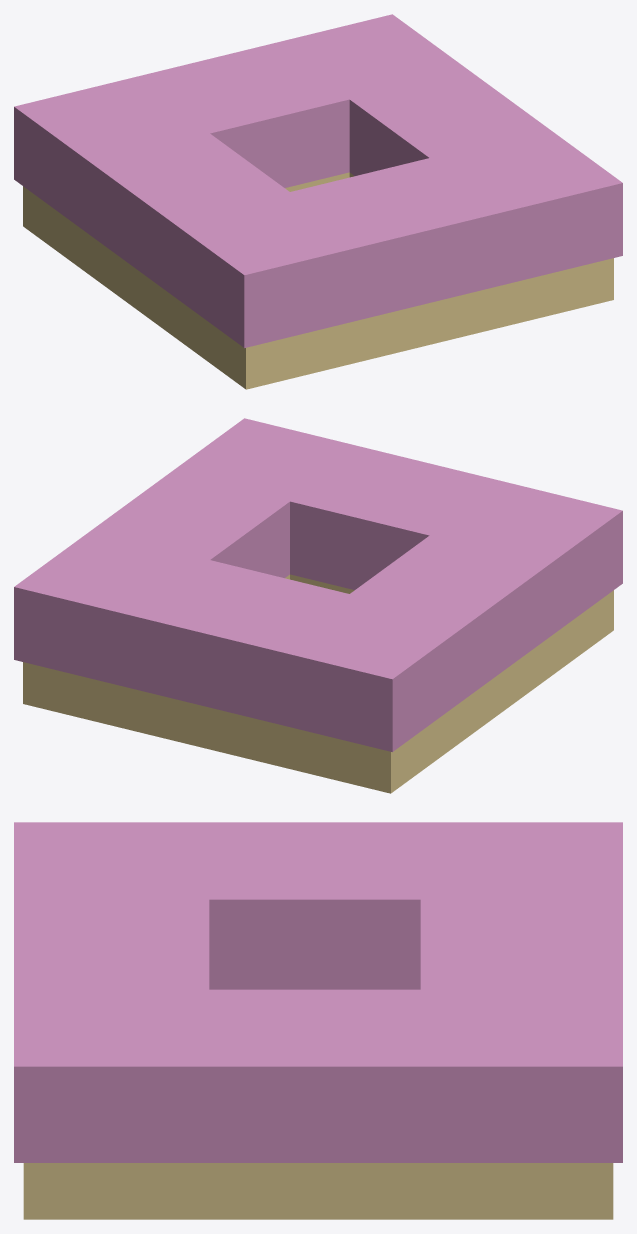
Rendered from Donut.fbx.
3 views of the same model, one above another, from view 1: azimuth 30°, elevation 25°; view 2: azimuth 150°, elevation 25°; view 3: azimuth 270°, elevation 25° (orthographic). The views are drawn at different scales.
Visible parts, largest first — view 1: Donut; view 2: Donut; view 3: Donut.
Boxes of the visible parts, x1,y1,x2,y2 form: Donut: (14, 14, 622, 389); Donut: (14, 418, 622, 793); Donut: (14, 822, 622, 1219).
Bounding box in the file's own units: 0.6156 × 0.184 × 0.6492.
